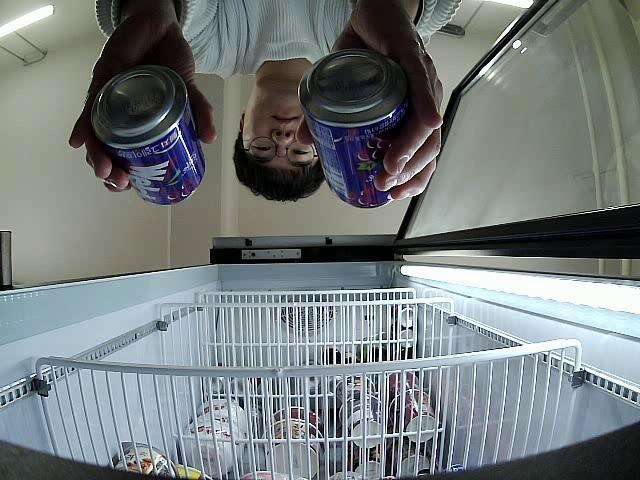14_welchsGrape: (298, 52, 412, 209), (90, 63, 204, 206)
